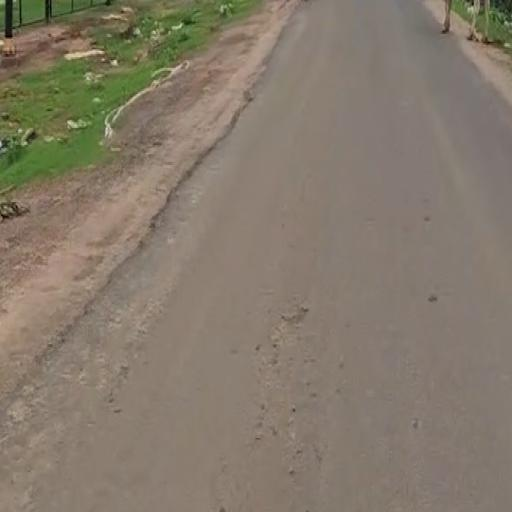edge_damage: (3, 18, 302, 407)
